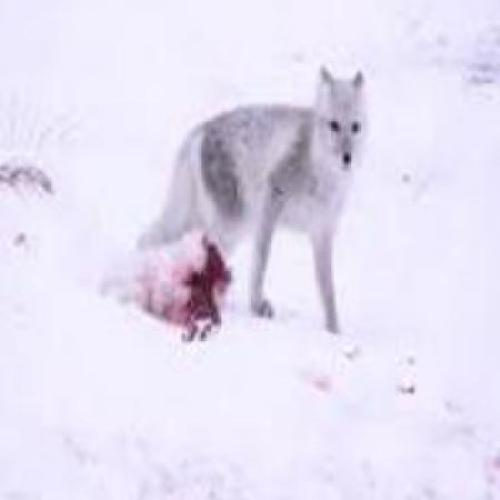arctic_fox-endangered: (146, 68, 372, 338)
